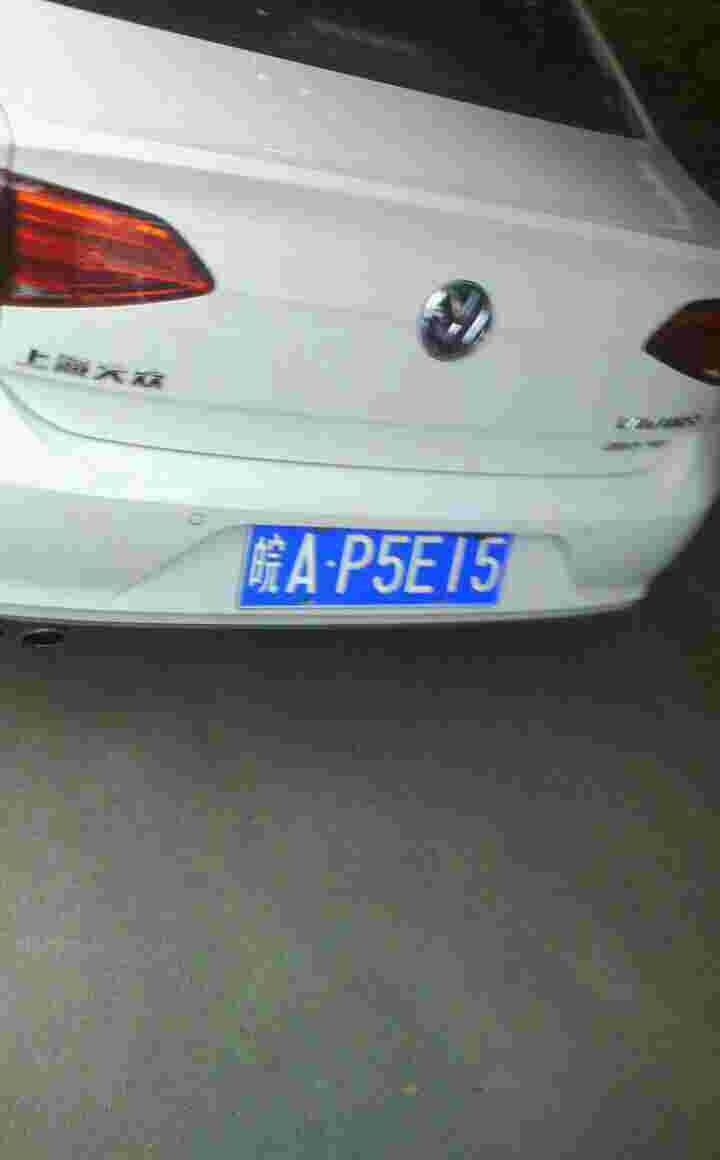plate: (244, 515, 526, 613)
